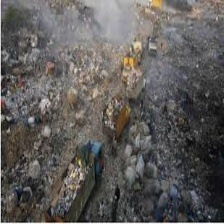smoke: (36, 1, 134, 36)
